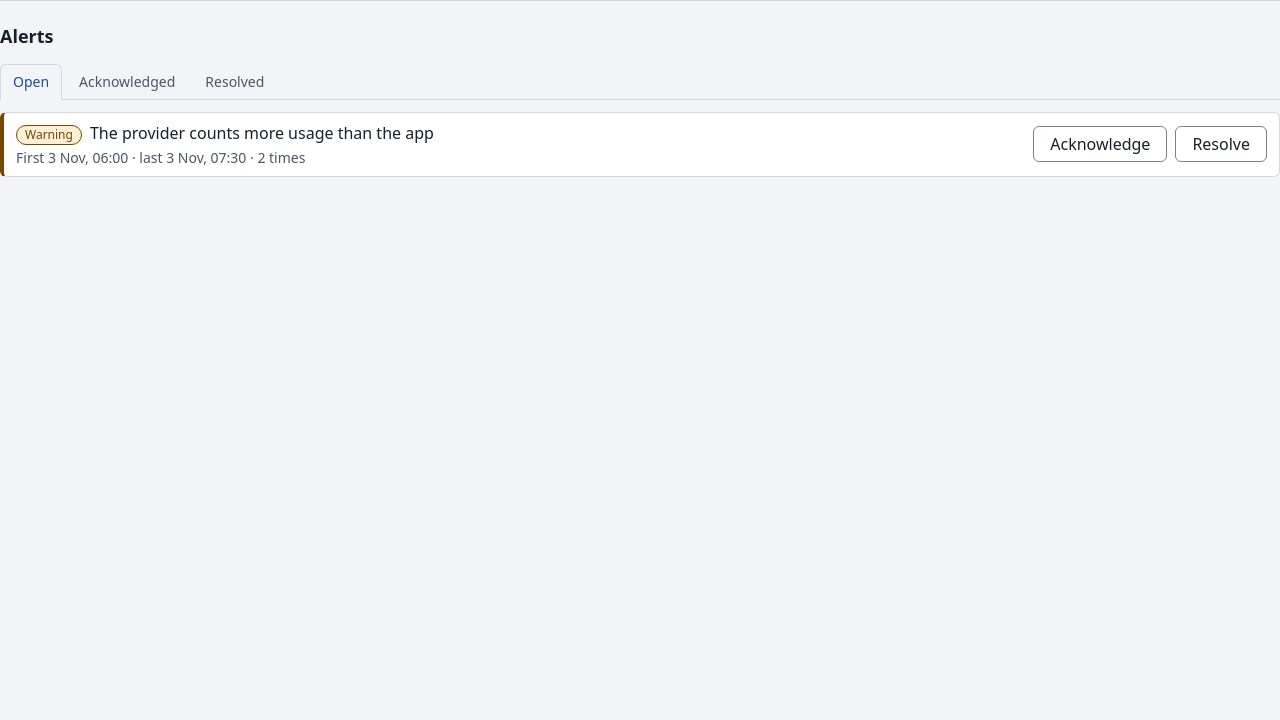
Test: AlertsList › a not_found answer to Resolve shows in the row and the list is read again
This screenshot has width=1280, height=720.
Click the button "Resolve" at coordinates (1221, 144), box [1175,126,1267,162]
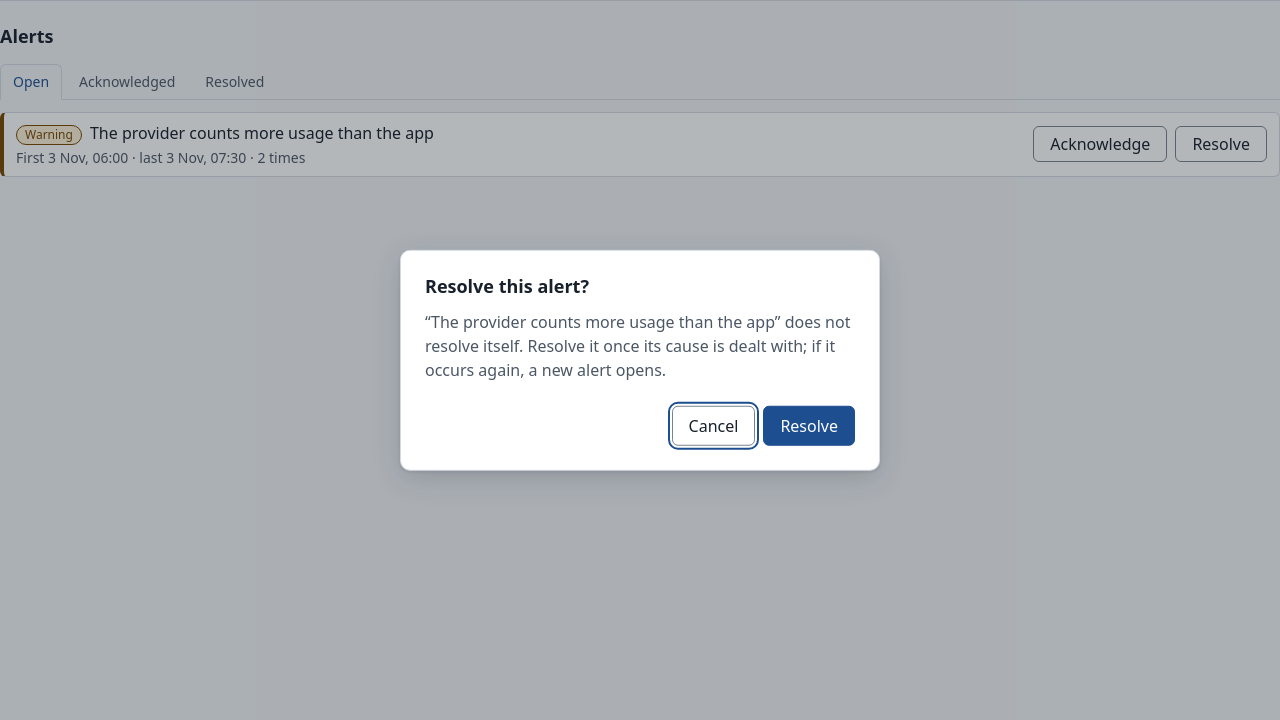
Click the button "Resolve" at coordinates (809, 425), box [763,405,855,445]
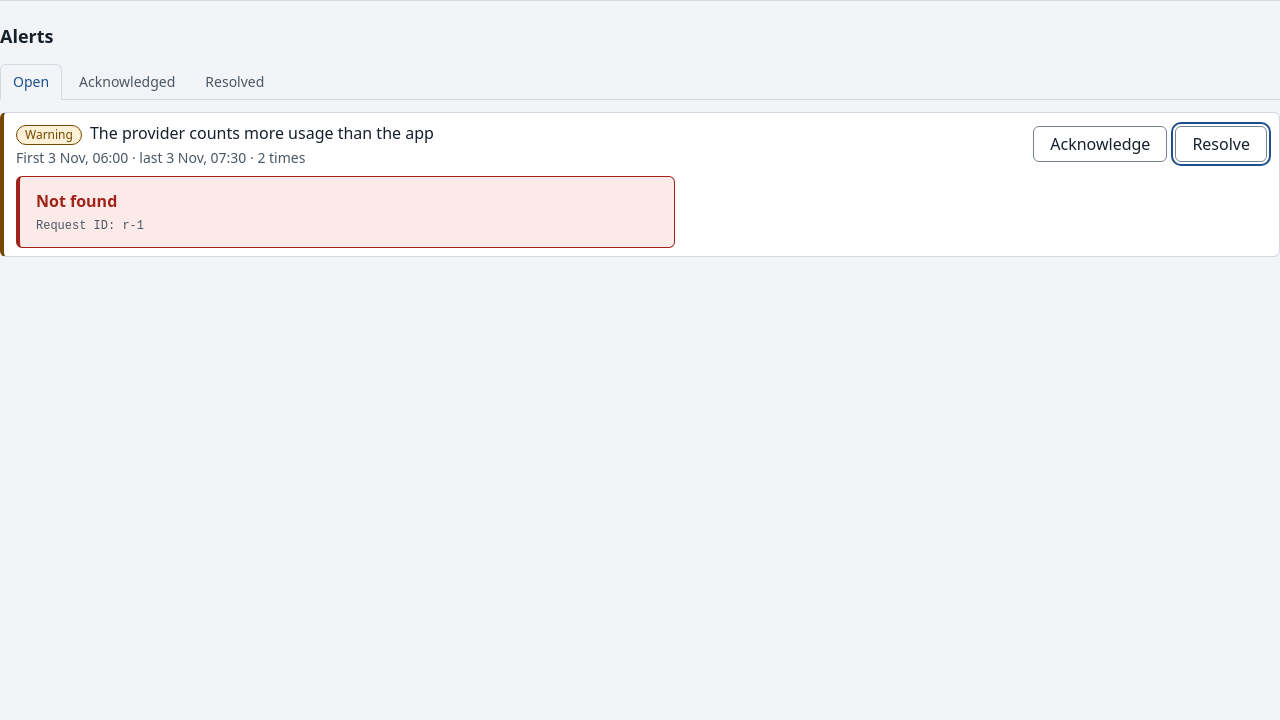
Expected: the message shows "Not found", [36,190,117,212]
